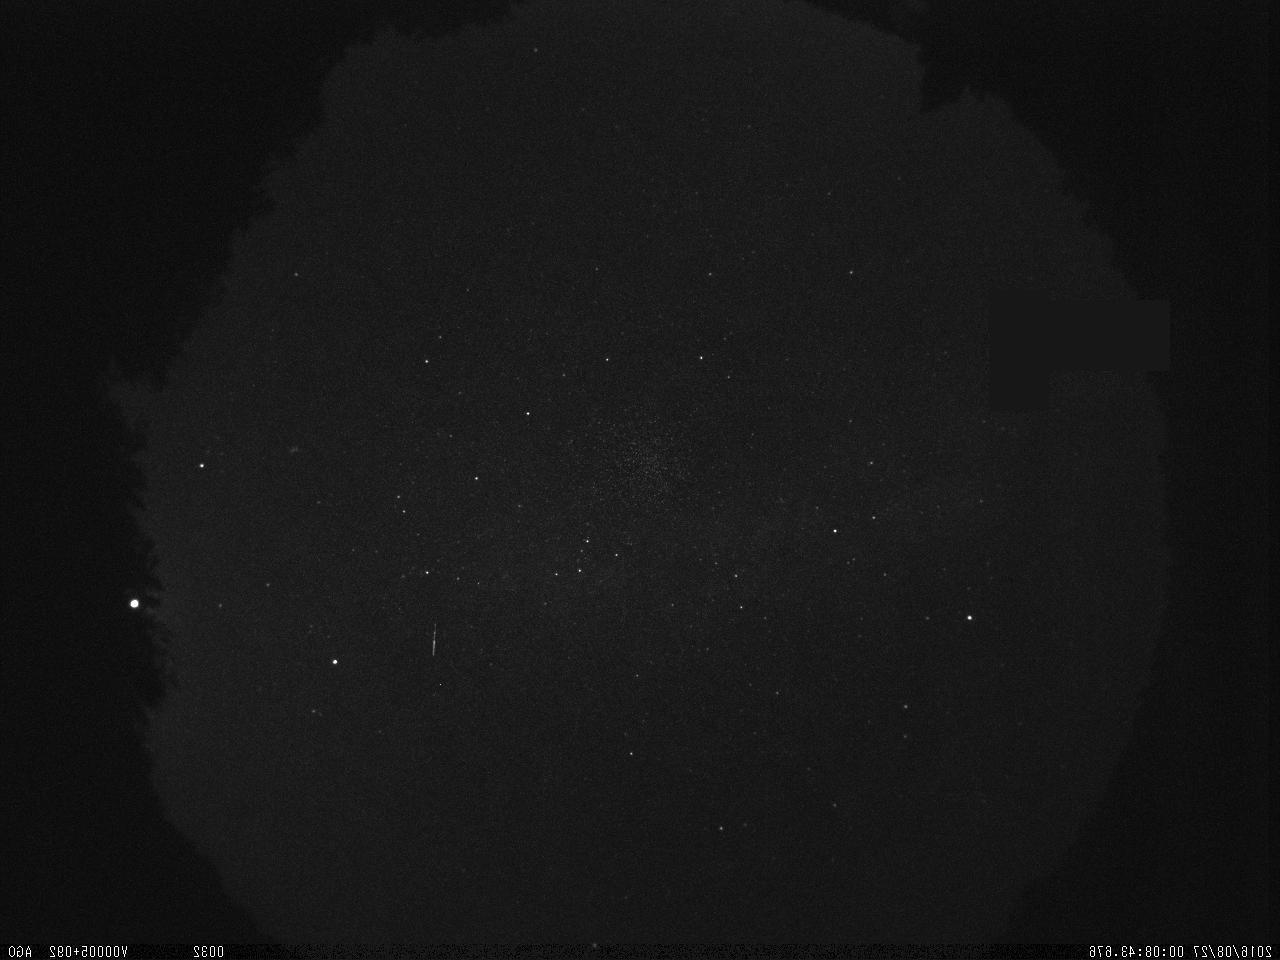meteor: (423, 612, 443, 661)
